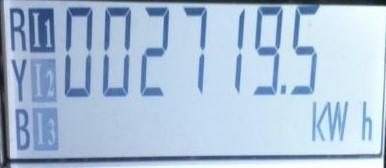.: (312, 101, 373, 144)
0: (280, 83, 289, 97)
1: (62, 3, 94, 100), (101, 3, 132, 100)
2: (232, 5, 247, 97)
3: (139, 5, 171, 98)
6: (291, 4, 320, 95)
8: (181, 5, 210, 96)
:: (253, 4, 285, 95)
